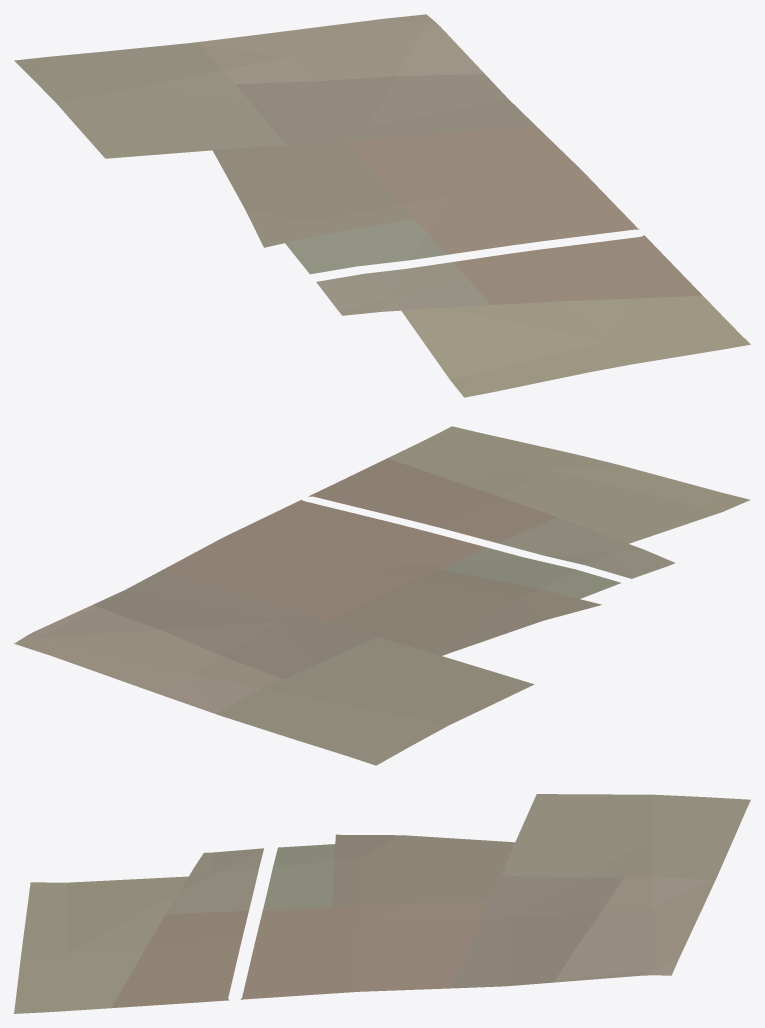
File: farm_-2_1_soil.glb
3 views of the same model, one above another, from view 1: azimuth 30°, elevation 25°; view 2: azimuth 150°, elevation 25°; view 3: azimuth 270°, elevation 25° (orthographic). The views are drawn at different scales.
Visible parts, largest first — view 1: geometry_0; view 2: geometry_0; view 3: geometry_0.
Boxes of the visible parts, x1,y1,x2,y2 form: geometry_0: (14,14,750,397); geometry_0: (14,426,750,765); geometry_0: (14,794,750,1013).
Size of the model in its own units: 228 by 39.27 by 403.
